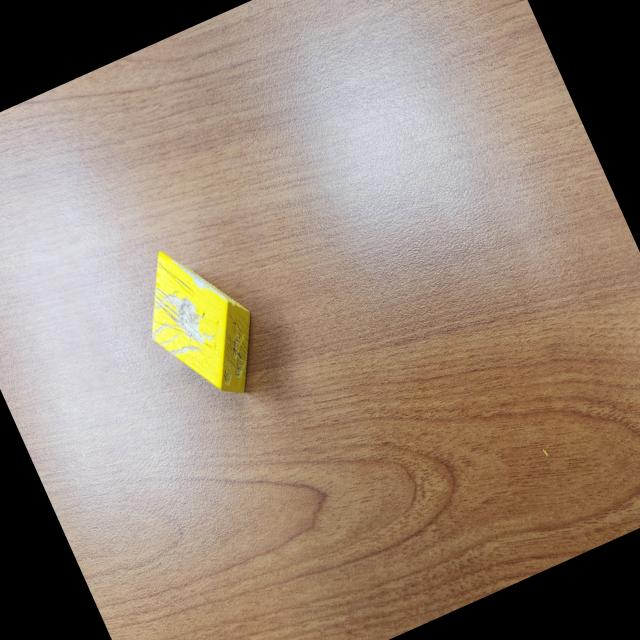broken: (121, 227, 279, 418)
